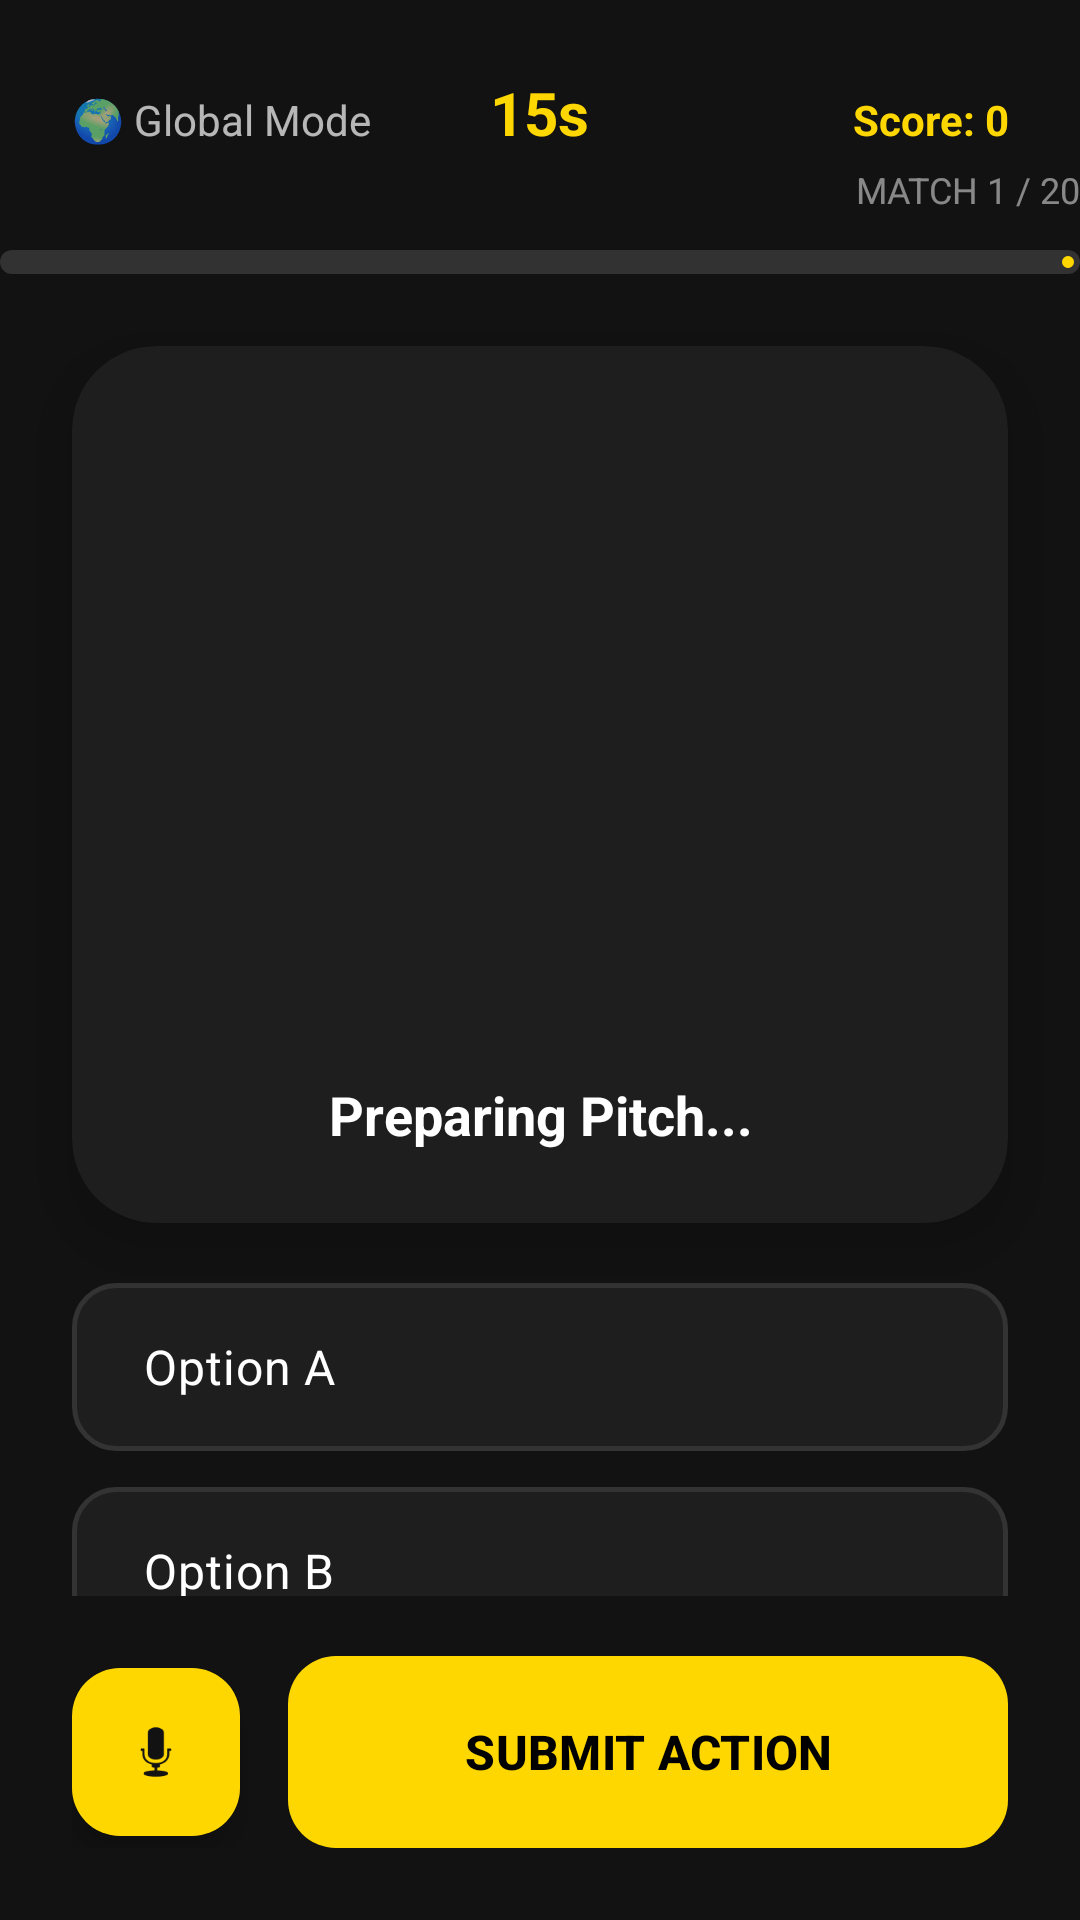

Where icons sit on this 1080×1920 app screen, as (x1=x1, y1=y1, x2=x2, y2=y2):
Voice Input: (x1=72, y1=1668, x2=240, y2=1836)
